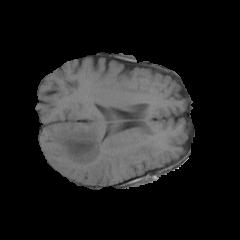glioma: (44, 117, 125, 179)
